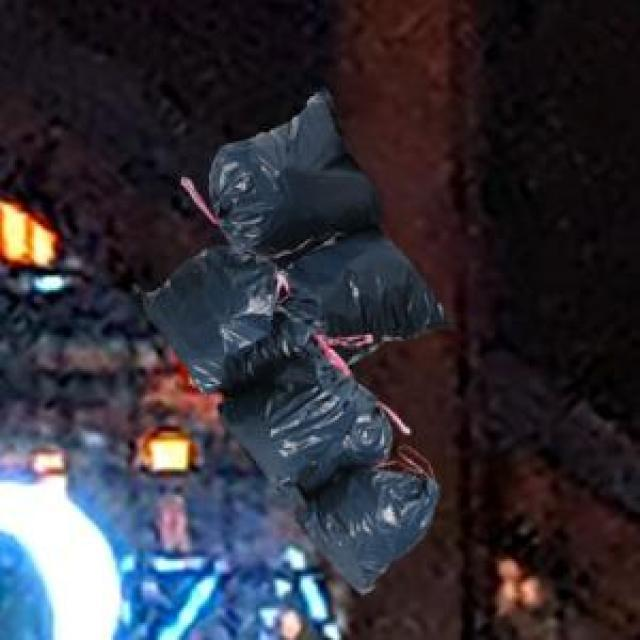miscellaneous trash: (130, 243, 433, 589), (177, 83, 446, 361)
